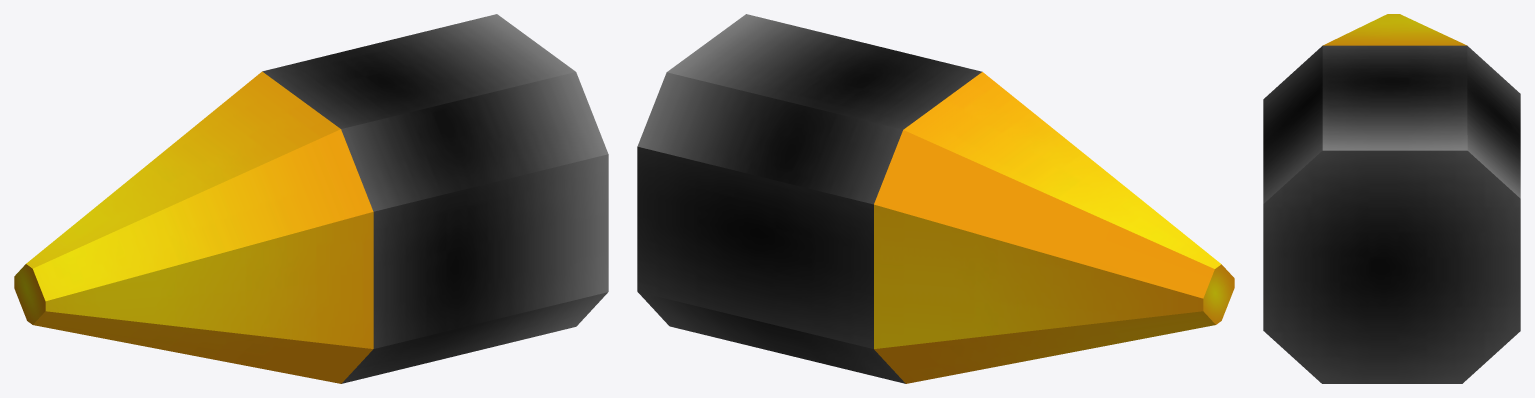
Rendered from bullet.fbx.
The picture shows the model from 3 angles, left to right: view 1: azimuth 30°, elevation 25°; view 2: azimuth 150°, elevation 25°; view 3: azimuth 270°, elevation 25°; orthographic projection. The views are drawn at different scales.
Parts seen in each view (by area): view 1: Bullet; view 2: Bullet; view 3: Bullet.
Boxes of the visible parts, box(x1,y1,x2,y2) form: Bullet: box(14, 14, 608, 383); Bullet: box(637, 14, 1234, 383); Bullet: box(1263, 14, 1520, 383).
Bounding box in the file's own units: 4.17 × 2 × 2.
